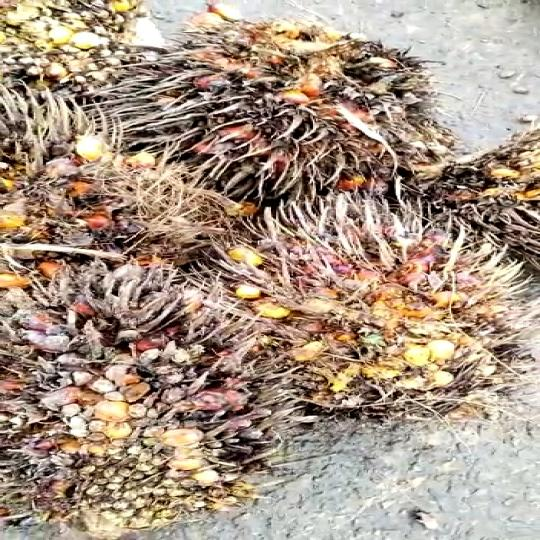terlalu masak: (0, 259, 309, 540), (56, 20, 491, 203), (188, 191, 540, 413)
